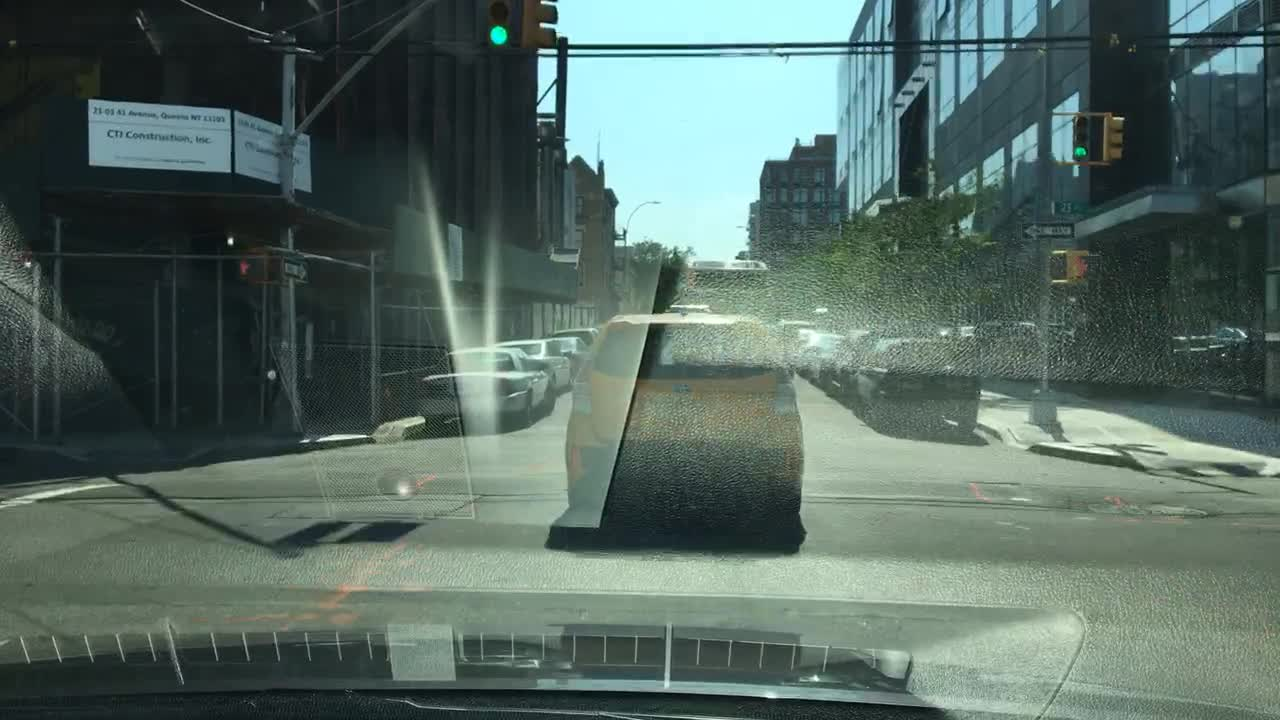car: (563, 306, 802, 536), (850, 334, 980, 432), (419, 346, 552, 430), (818, 331, 899, 399), (490, 339, 571, 391), (806, 330, 862, 386), (537, 336, 587, 379), (776, 320, 823, 360), (540, 326, 600, 351), (791, 328, 822, 376), (723, 258, 771, 273), (687, 257, 723, 270)
traffic light: (1101, 112, 1120, 167), (234, 249, 265, 281), (1048, 252, 1075, 285), (1075, 253, 1101, 283), (1071, 112, 1085, 162)
traffic sign: (516, 1, 557, 53), (486, 1, 510, 46), (1020, 224, 1075, 239), (281, 257, 308, 281), (1051, 199, 1088, 213)
